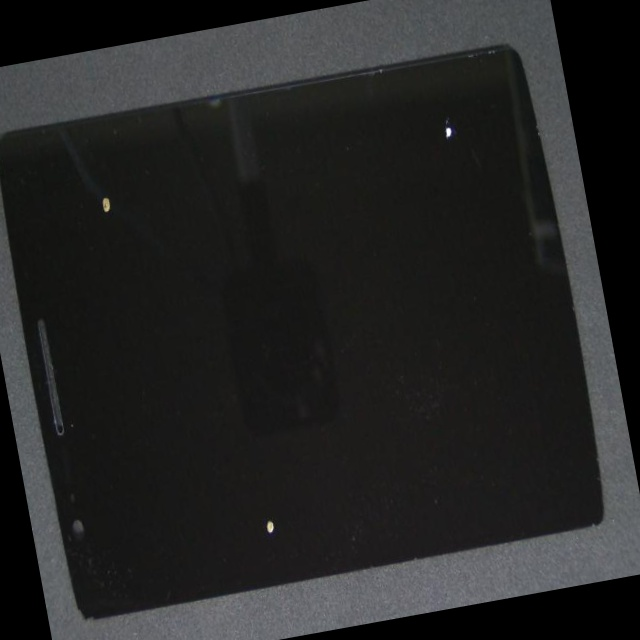stain: (123, 226, 400, 640), (215, 15, 579, 218), (36, 94, 174, 263)
